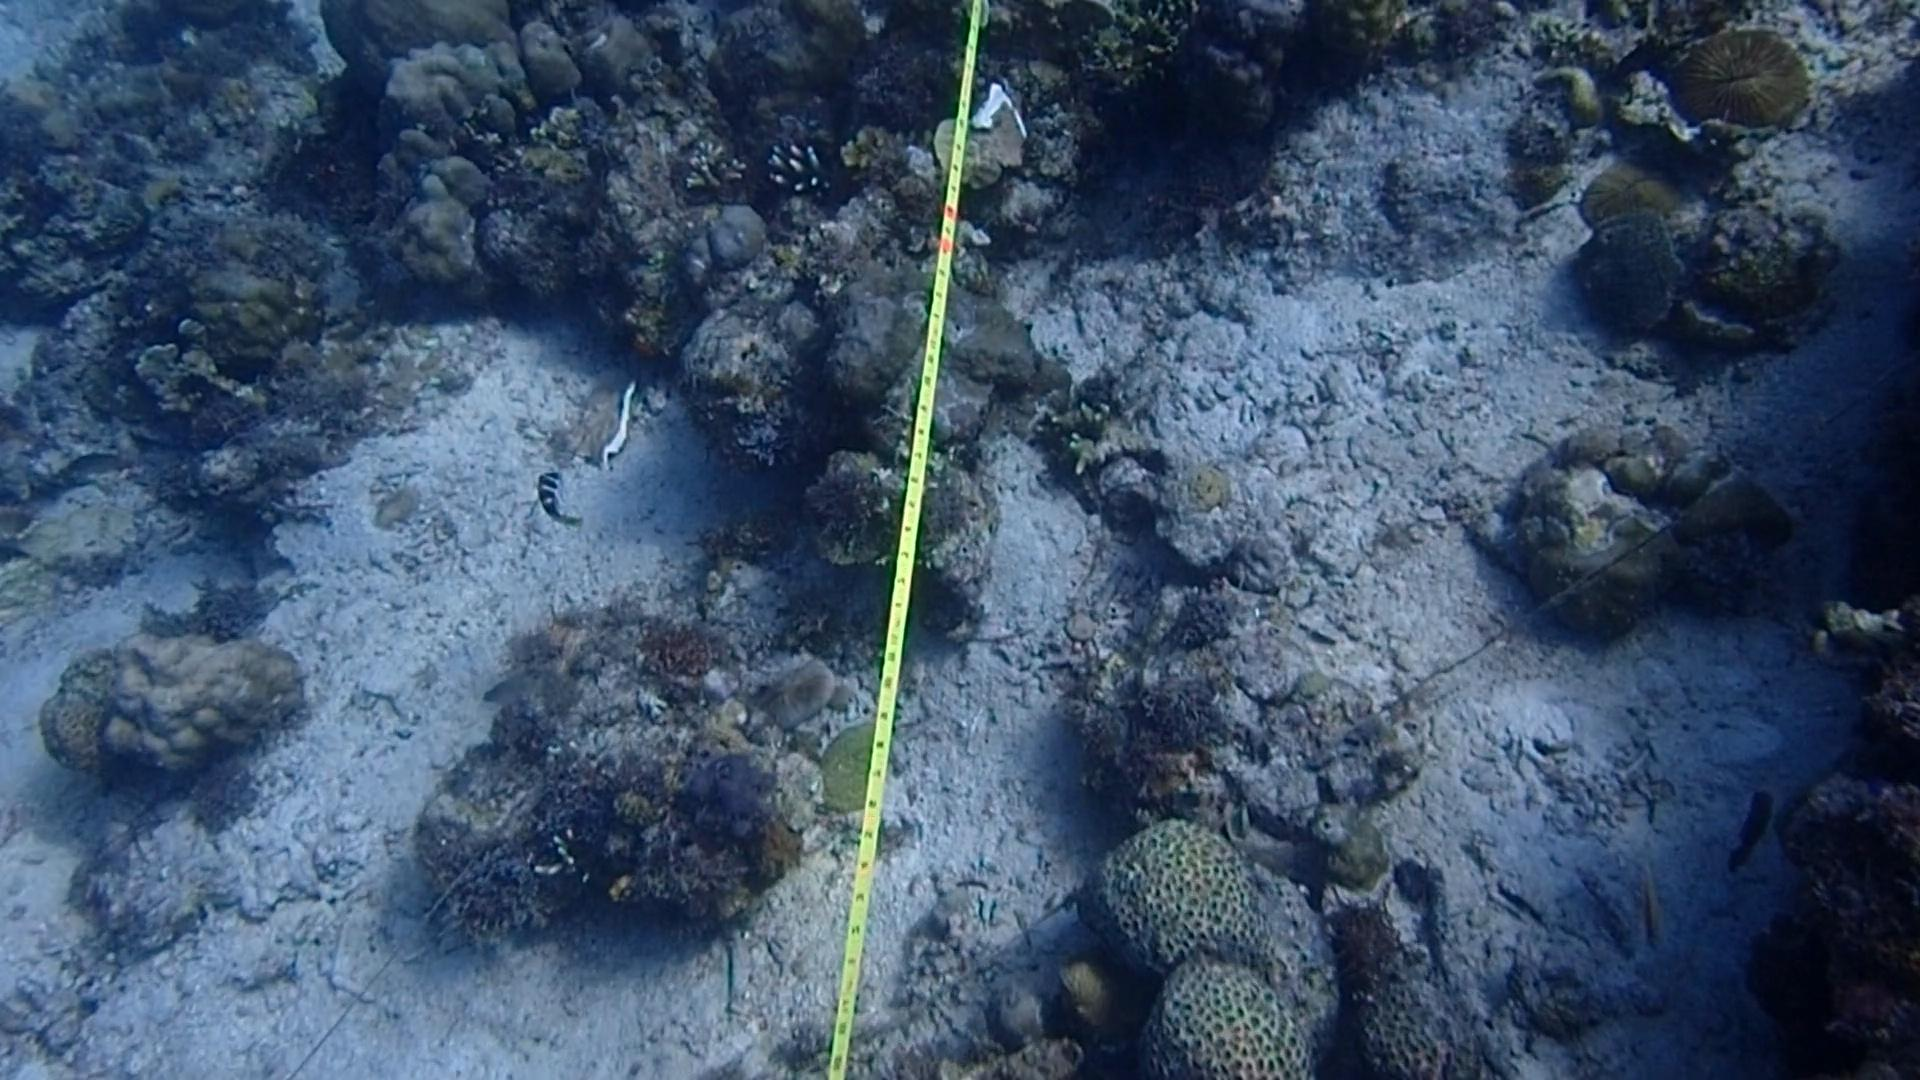Striped Fish: (531, 473, 589, 542)
